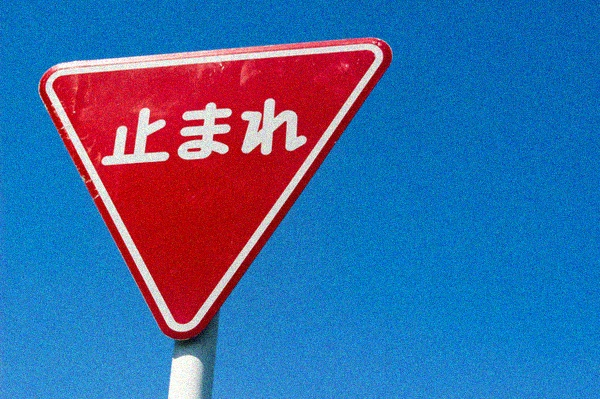Regulatory_sign_triangle: (38, 30, 403, 334)
